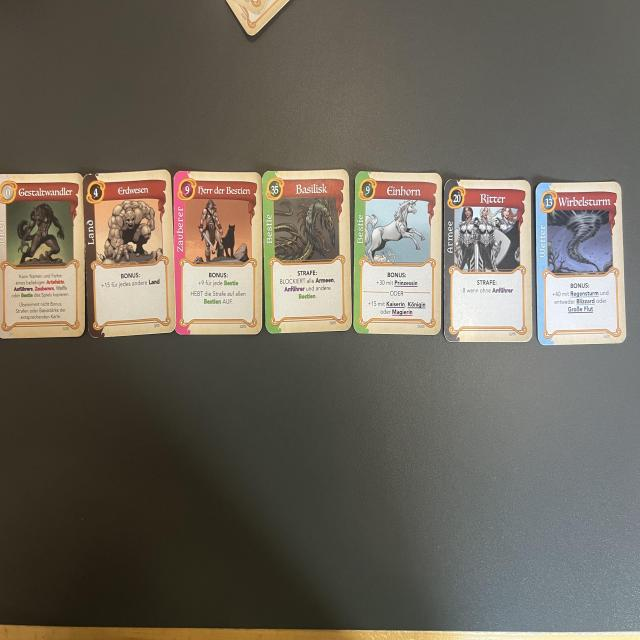Basilisk: (261, 168, 352, 340)
Beast Master: (171, 168, 264, 341)
Earth Elemental: (81, 168, 173, 341)
Knights: (441, 179, 532, 348)
Shapeshifter: (0, 171, 84, 343)
Unicorn: (353, 167, 443, 342)
Whirlwind: (536, 182, 627, 350)
